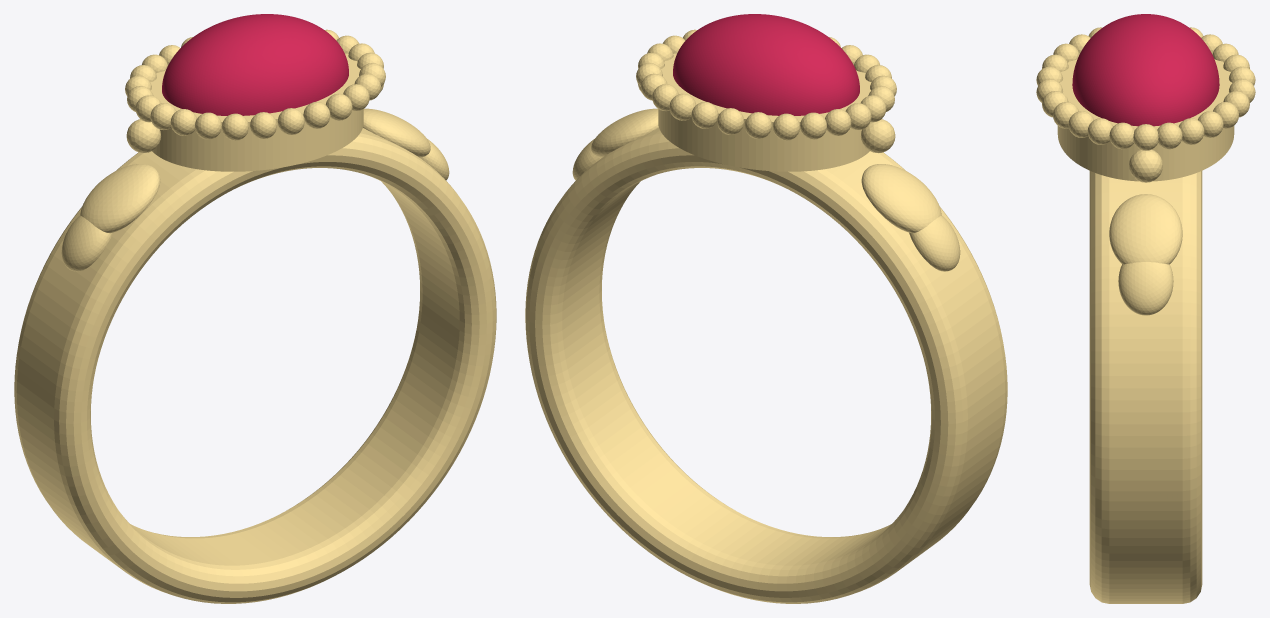
Rendered from ratna_ring.glb.
3 views of the same model, side by side, from view 1: azimuth 30°, elevation 25°; view 2: azimuth 150°, elevation 25°; view 3: azimuth 270°, elevation 25° (orthographic).
Parts seen in each view (by area): view 1: gold, ruby; view 2: gold, ruby; view 3: gold, ruby.
Boxes of the visible parts, x1,y1,x2,y2 form: gold: (14, 29, 496, 603); ruby: (162, 14, 348, 115); gold: (525, 29, 1007, 603); ruby: (673, 14, 859, 115); gold: (1036, 27, 1255, 603); ruby: (1072, 14, 1219, 126).
Bounding box in the file's own units: 0.0205 × 0.0249 × 0.00894.
